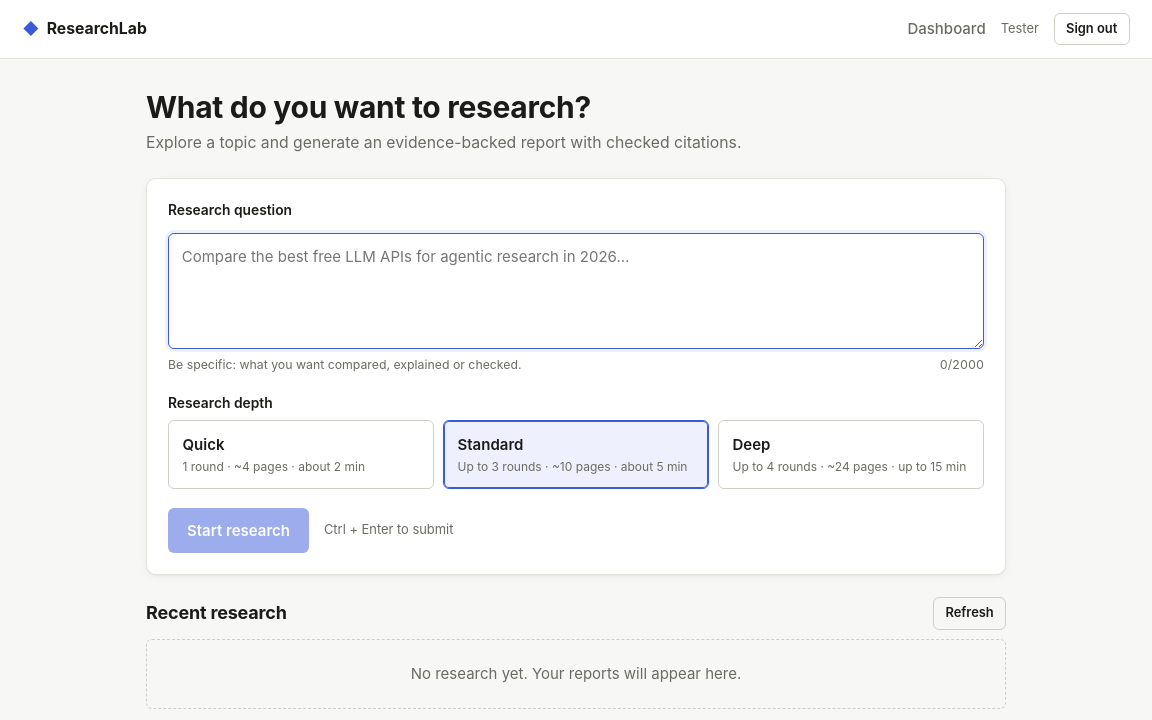
Test: sign-in › signs out
Click the button "Sign out": coordinates (1092, 29) [1054,13,1130,45]
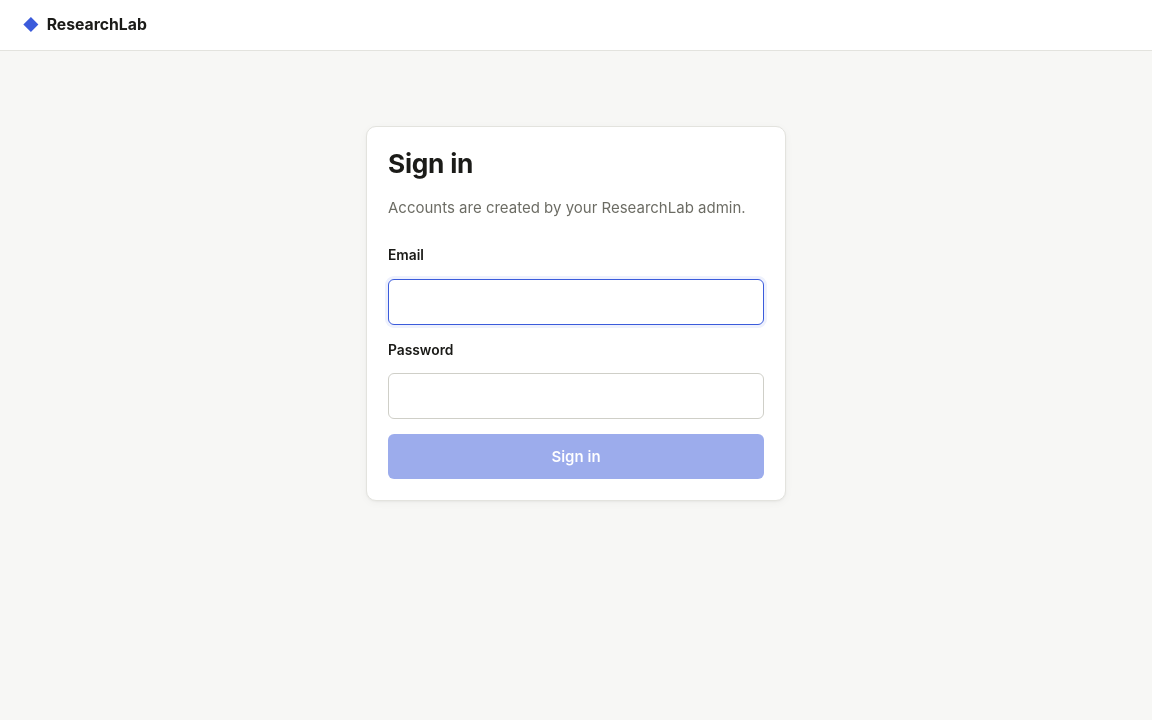
Now the heading "Sign in" is shown, box [388,148,473,179]
